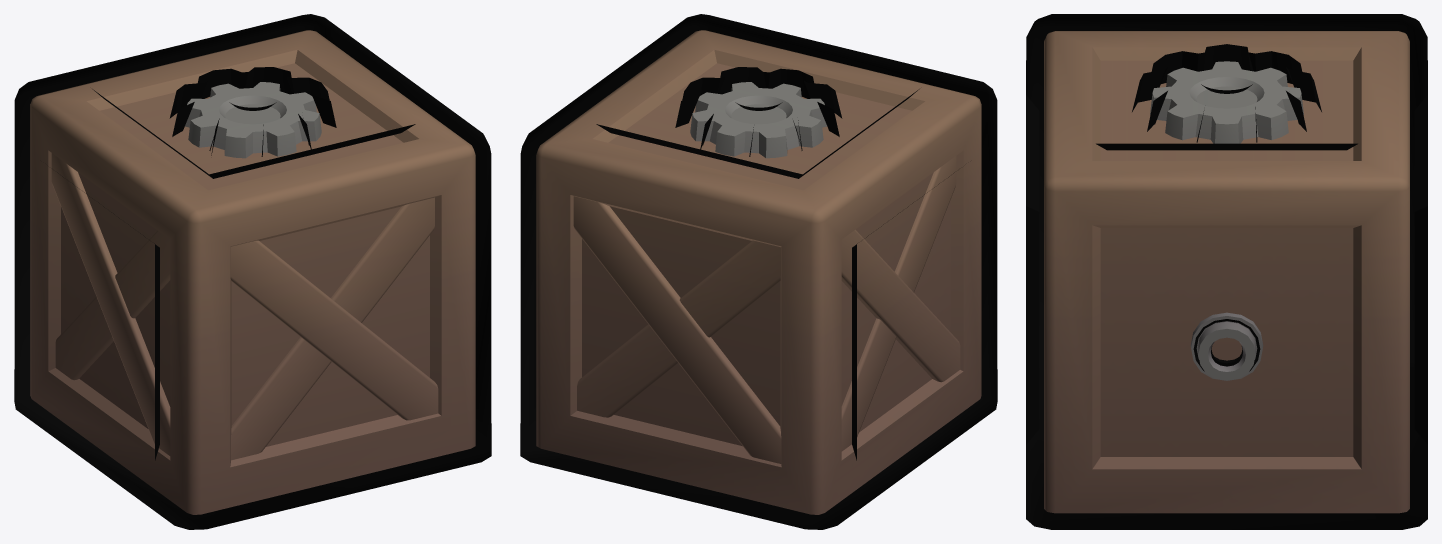
The model's file is periscope_box_backFace.fbx.
3 views of the same model, side by side, from view 1: azimuth 30°, elevation 25°; view 2: azimuth 150°, elevation 25°; view 3: azimuth 270°, elevation 25° (orthographic). The views are drawn at different scales.
Visible parts, largest first — view 1: box; view 2: box; view 3: box.
Part boxes in pixels (x1,y1,x2,y2): box: (14,14,491,529); box: (520,14,997,529); box: (1026,14,1427,529).
Size of the model in its own units: 145 by 147 by 145.
